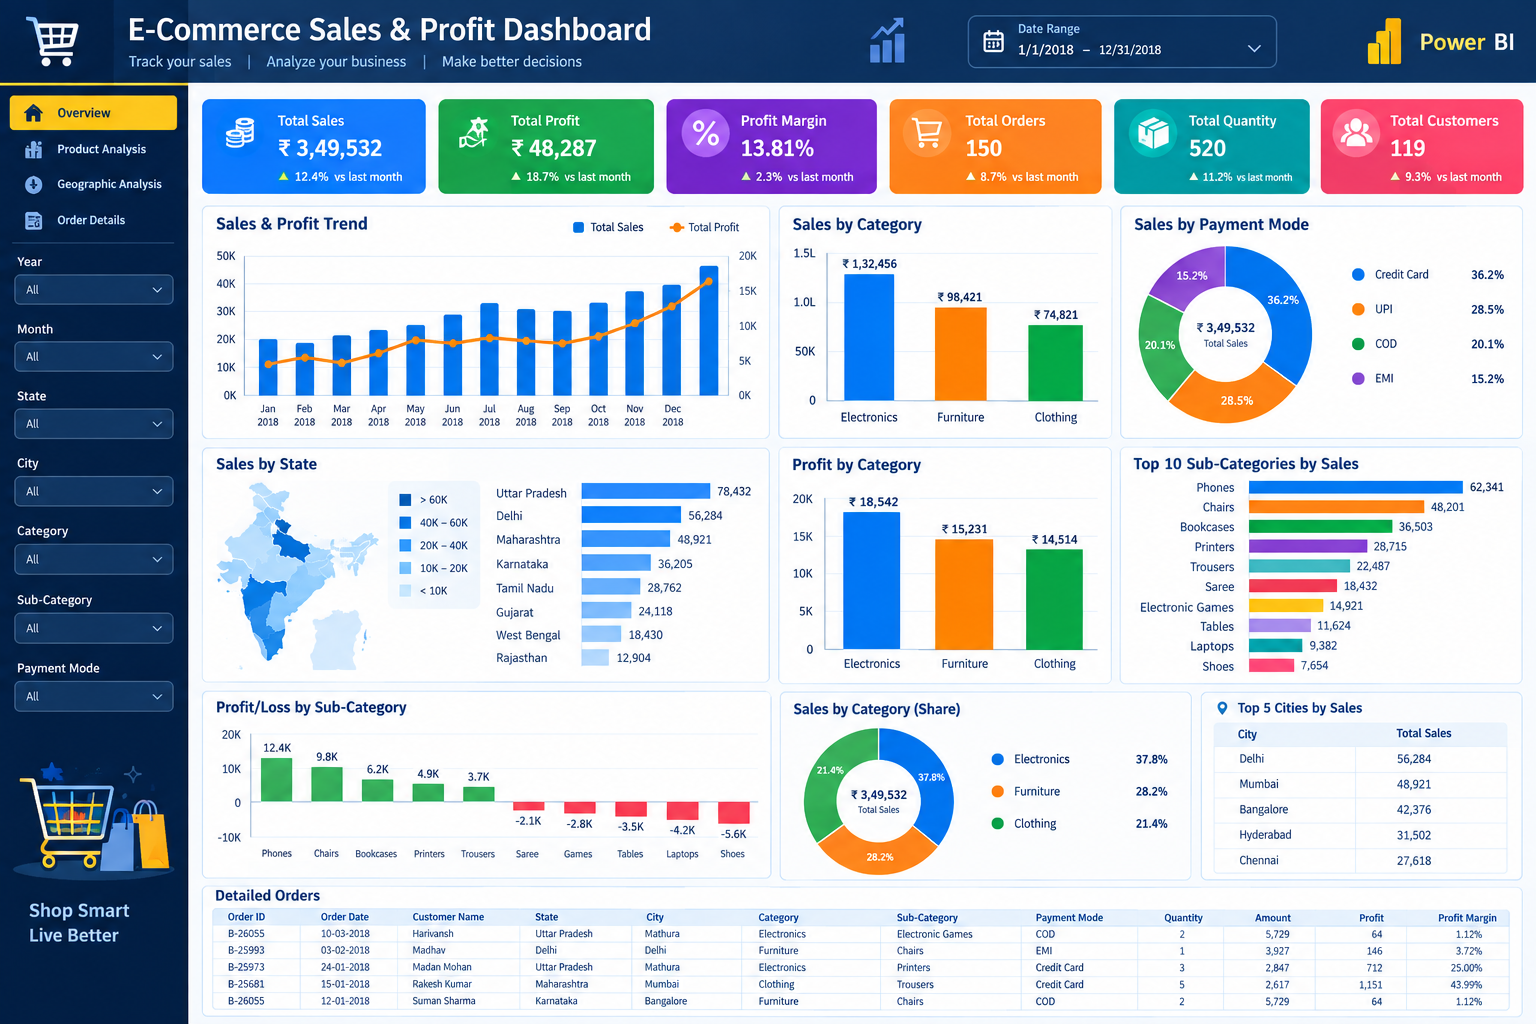

The page's visual inventory and layout, read from the dashboard file:
{"tool":"powerbi","page":{"name":"Page 1","canvas":[1920,1080],"ordinal":0},"visuals":[{"type":"textbox","box":[0,0,1920.1,126.7],"z":0},{"type":"textbox","box":[0,126.7,271.4,953.7],"z":1000},{"type":"cardVisual","fields":{"Data":["Sales Details.Total Sales"]},"box":[289.5,144.8,255.2,139.3],"z":2000},{"type":"cardVisual","fields":{"Data":["Sales Details.Total Profit"]},"box":[557.4,144.8,255.2,139.3],"z":3000},{"type":"cardVisual","fields":{"Data":["Sales Details.Profit Margin %"]},"box":[830.6,144.8,255.2,139.3],"z":4000},{"type":"cardVisual","fields":{"Data":["Sales Details.Total Orders"]},"box":[1100.3,146.6,255.2,139.3],"z":5000},{"type":"cardVisual","fields":{"Data":["Sales Details.Total Quantity"]},"box":[1368.1,146.6,255.2,139.3],"z":6000},{"type":"cardVisual","fields":{"Data":["Sum(Orders.Total Customers)"]},"box":[1641.4,148.4,255.2,139.3],"z":7000},{"type":"image","box":[14.5,0,121.2,126.7],"z":8000},{"type":"slicer","fields":{"Values":["DateTable.Date"]},"box":[1355.4,48.9,253.4,77.8],"z":9000},{"type":"slicer","fields":{"Values":["DateTable.Year"]},"box":[0,215.3,253.4,77.8],"z":10000},{"type":"slicer","fields":{"Values":["DateTable.Month"]},"box":[0,316.7,253.4,77.8],"z":11000},{"type":"slicer","fields":{"Values":["Orders.State"]},"box":[0,423.5,253.4,77.8],"z":12000},{"type":"slicer","fields":{"Values":["Sales Details.Category"]},"box":[0,638.8,253.4,77.8],"z":13000},{"type":"slicer","fields":{"Values":["Orders.City"]},"box":[0,526.6,253.4,77.8],"z":14000},{"type":"slicer","fields":{"Values":["Sales Details.Category"]},"box":[0,756.4,253.4,77.8],"z":15000},{"type":"slicer","fields":{"Values":["Sales Details.PaymentMode"]},"box":[0,877.7,253.4,88.7],"z":16000},{"type":"textbox","box":[0,126.7,253.4,65.1],"z":17000},{"type":"image","box":[0,132.1,77.8,52.5],"z":18000},{"type":"lineClusteredColumnComboChart","title":"Total Sales ","fields":{"Category":["Sales Details.Category"],"Series":["Sales Details.Category"],"Y":["Sales Details.Total Sales"]},"box":[289.5,293.2,709.4,409],"z":19000},{"type":"donutChart","fields":{"Category":["Sales Details.PaymentMode"],"Y":["Sales Details.Total Sales"]},"box":[1009.8,296.8,439.7,409],"z":20000},{"type":"funnel","fields":{"Category":["Orders.State"],"Y":["Sales Details.Total Sales"]},"box":[1462.2,296.8,434.3,405.4],"z":21000},{"type":"barChart","fields":{"Category":["Sales Details.Sub-Category"],"Y":["Sales Details.Total Sales"]},"box":[289.8,715.4,709.9,365],"z":22000},{"type":"lineStackedColumnComboChart","fields":{"Category":["Sales Details.Sub-Category"],"Y":["Sales Details.Total Profit"]},"box":[1010.7,715.4,885.9,365],"z":23000}]}

Visuals, with their boxes on the page's 1920x1080 design canvas (x1, y1, x2, y2). These are canvas units, not pixel positions in the 1536x1024 screenshot, which may show the page scaled, cropped or inside an application window:
textbox: bbox=(0, 0, 1920, 127)
textbox: bbox=(0, 127, 271, 1080)
cardVisual - Sales Details.Total Sales: bbox=(290, 145, 545, 284)
cardVisual - Sales Details.Total Profit: bbox=(557, 145, 813, 284)
cardVisual - Sales Details.Profit Margin %: bbox=(831, 145, 1086, 284)
cardVisual - Sales Details.Total Orders: bbox=(1100, 147, 1356, 286)
cardVisual - Sales Details.Total Quantity: bbox=(1368, 147, 1623, 286)
cardVisual - Sum(Orders.Total Customers): bbox=(1641, 148, 1897, 288)
image: bbox=(14, 0, 136, 127)
slicer - DateTable.Date: bbox=(1355, 49, 1609, 127)
slicer - DateTable.Year: bbox=(0, 215, 253, 293)
slicer - DateTable.Month: bbox=(0, 317, 253, 394)
slicer - Orders.State: bbox=(0, 424, 253, 501)
slicer - Sales Details.Category: bbox=(0, 639, 253, 717)
slicer - Orders.City: bbox=(0, 527, 253, 604)
slicer - Sales Details.Category: bbox=(0, 756, 253, 834)
slicer - Sales Details.PaymentMode: bbox=(0, 878, 253, 966)
textbox: bbox=(0, 127, 253, 192)
image: bbox=(0, 132, 78, 185)
"Total Sales " lineClusteredColumnComboChart: bbox=(290, 293, 999, 702)
donutChart - Sales Details.PaymentMode x Sales Details.Total Sales: bbox=(1010, 297, 1450, 706)
funnel - Orders.State x Sales Details.Total Sales: bbox=(1462, 297, 1896, 702)
barChart - Sales Details.Sub-Category x Sales Details.Total Sales: bbox=(290, 715, 1000, 1080)
lineStackedColumnComboChart - Sales Details.Sub-Category x Sales Details.Total Profit: bbox=(1011, 715, 1897, 1080)
